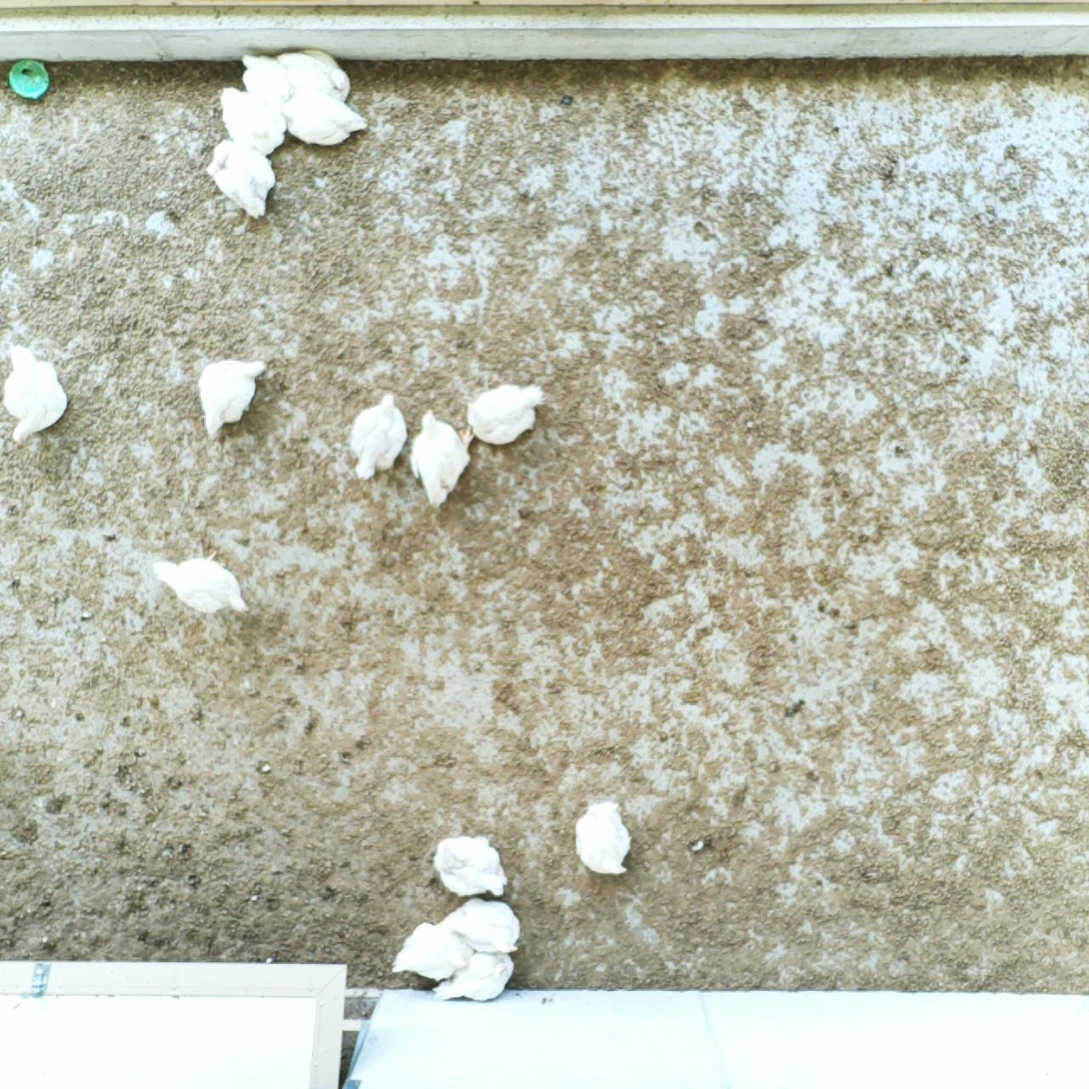chicken: (147, 545, 249, 622), (404, 406, 478, 510), (1, 341, 71, 448), (191, 355, 270, 445), (203, 136, 279, 221), (272, 86, 372, 149), (213, 83, 293, 158), (462, 377, 546, 448), (389, 918, 477, 985), (571, 795, 638, 882), (429, 831, 512, 901), (348, 391, 410, 484), (435, 896, 529, 952), (273, 43, 357, 105), (435, 948, 517, 1007), (238, 51, 298, 114)
